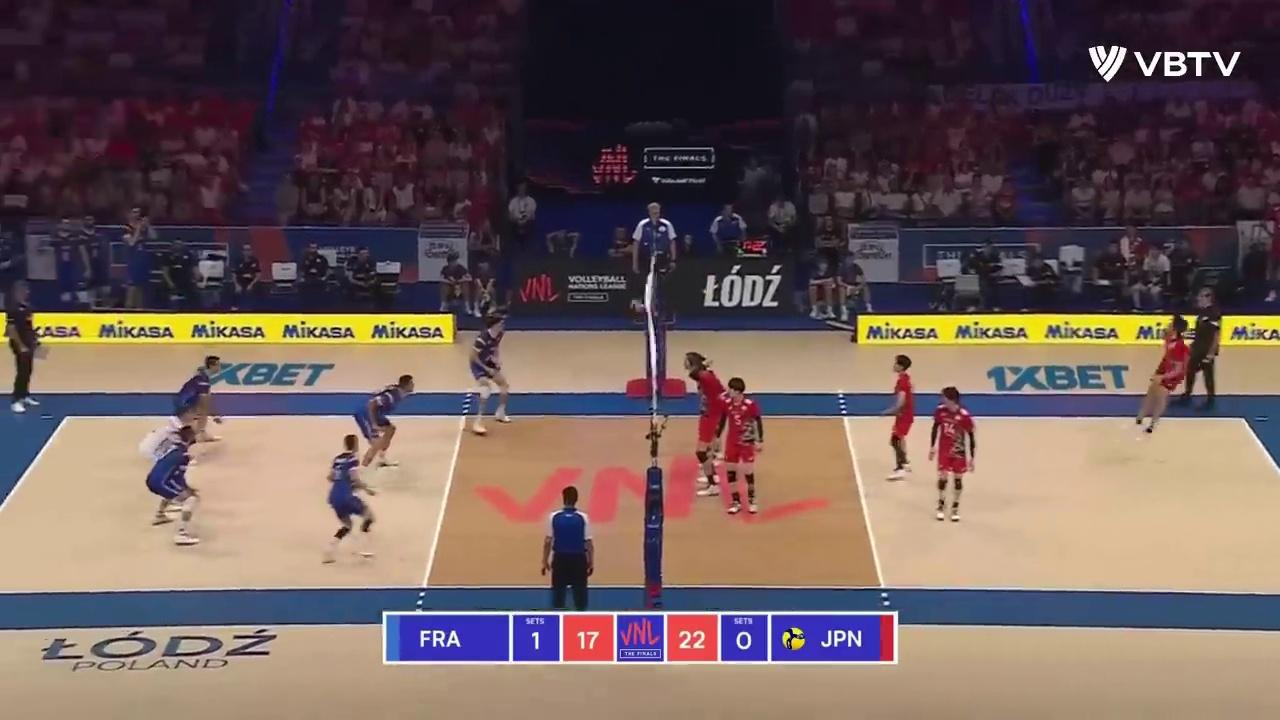ball: (632, 302, 643, 312)
